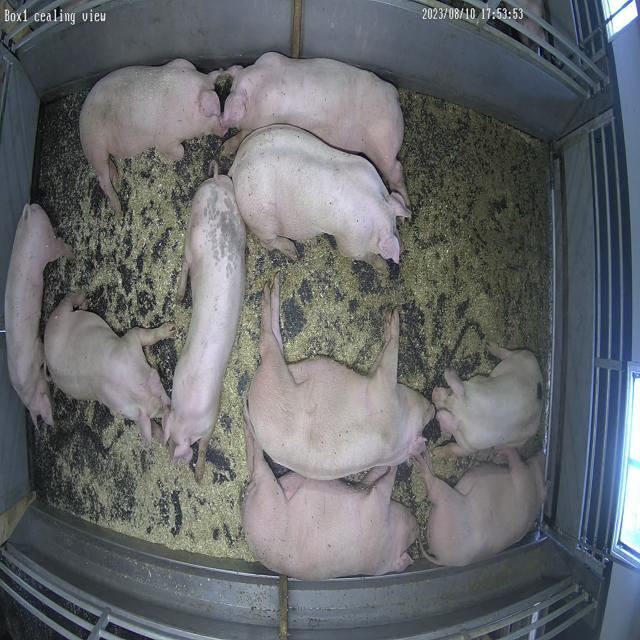Dirt: (401, 90, 551, 392)
Pig: (249, 280, 435, 480), (242, 411, 418, 582), (222, 52, 408, 204), (229, 124, 410, 262), (164, 175, 246, 476), (79, 58, 226, 214), (44, 295, 174, 444), (4, 204, 72, 428)
